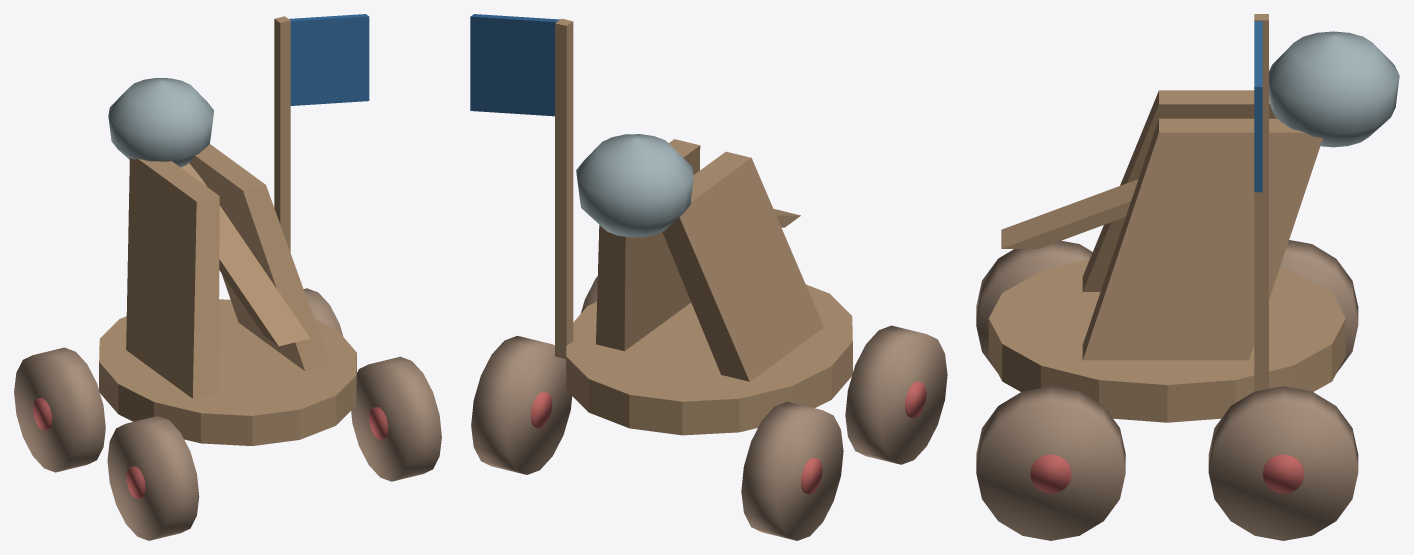
File: catapult.glb
3 renders of one model, left to right at view 1: azimuth 30°, elevation 25°; view 2: azimuth 150°, elevation 25°; view 3: azimuth 270°, elevation 25°, orthographic. The views are drawn at different scales.
Visible parts, largest first — view 1: Siege deck, A frame, A frame.001, Wheel carved rim, Wheel carved rim.001, Wheel carved rim.002, Sling stone, Regional siege banner, Throwing arm, Flagpole, Wheel carved rim.003, Wheel hub (+2 smaller); view 2: Siege deck, A frame, Wheel carved rim.001, Wheel carved rim, Wheel carved rim.003, Sling stone, A frame.001, Regional siege banner, Flagpole, Wheel hub.001, Wheel hub, Wheel hub.003; view 3: A frame.001, Siege deck, Wheel carved rim.003, Wheel carved rim.002, Sling stone, A frame, Flagpole, Throwing arm, Wheel carved rim, Wheel carved rim.001, Regional siege banner, Wheel hub.003 (+1 smaller).
Boxes of the visible parts, x1,y1,x2,y2 form: Siege deck: (99, 299, 356, 445); A frame: (126, 158, 219, 398); A frame.001: (189, 144, 330, 371); Wheel carved rim: (107, 416, 199, 540); Wheel carved rim.001: (14, 347, 105, 472); Wheel carved rim.002: (351, 356, 441, 481); Sling stone: (108, 78, 213, 167); Regional siege banner: (289, 14, 369, 105); Throwing arm: (181, 163, 310, 346); Flagpole: (274, 16, 290, 252); Wheel carved rim.003: (303, 288, 343, 336); Wheel hub: (126, 466, 145, 499); Siege deck: (566, 284, 852, 435); A frame: (662, 151, 823, 381); Wheel carved rim.001: (741, 401, 843, 540); Wheel carved rim: (845, 325, 947, 464); Wheel carved rim.003: (471, 335, 572, 474); Sling stone: (576, 134, 693, 237); A frame.001: (596, 139, 700, 351); Regional siege banner: (470, 14, 559, 116); Flagpole: (555, 18, 573, 358); Wheel hub.001: (801, 457, 822, 494); Wheel hub: (905, 381, 926, 418); Wheel hub.003: (530, 391, 552, 428); A frame.001: (1082, 118, 1322, 360); Siege deck: (988, 259, 1345, 422); Wheel carved rim.003: (1208, 386, 1358, 540); Wheel carved rim.002: (976, 386, 1125, 540); Sling stone: (1269, 31, 1399, 147); A frame: (1082, 90, 1276, 291); Flagpole: (1254, 14, 1268, 391); Throwing arm: (1001, 179, 1138, 248); Wheel carved rim: (976, 240, 1092, 372); Wheel carved rim.001: (1280, 240, 1358, 372); Regional siege banner: (1254, 21, 1262, 192); Wheel hub.003: (1262, 454, 1304, 493).
Bounding box in the file's own units: 1.09 × 1.32 × 1.02.
